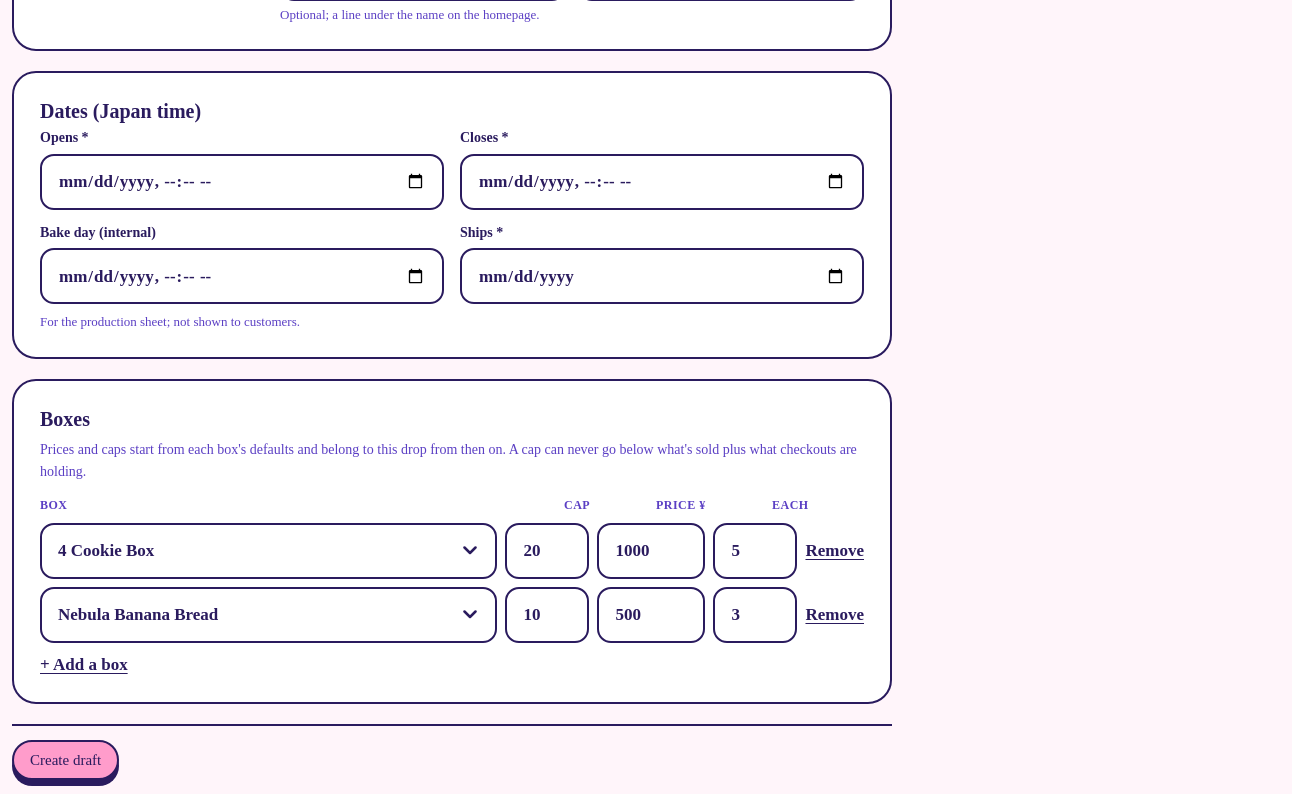
DropForm › fills a new row from the box chosen, and won't offer a box that's already in
The image size is (1292, 794).
(page scrolled)
Click the button "+ Add a box" at (84, 664), box [40,651,128,678]
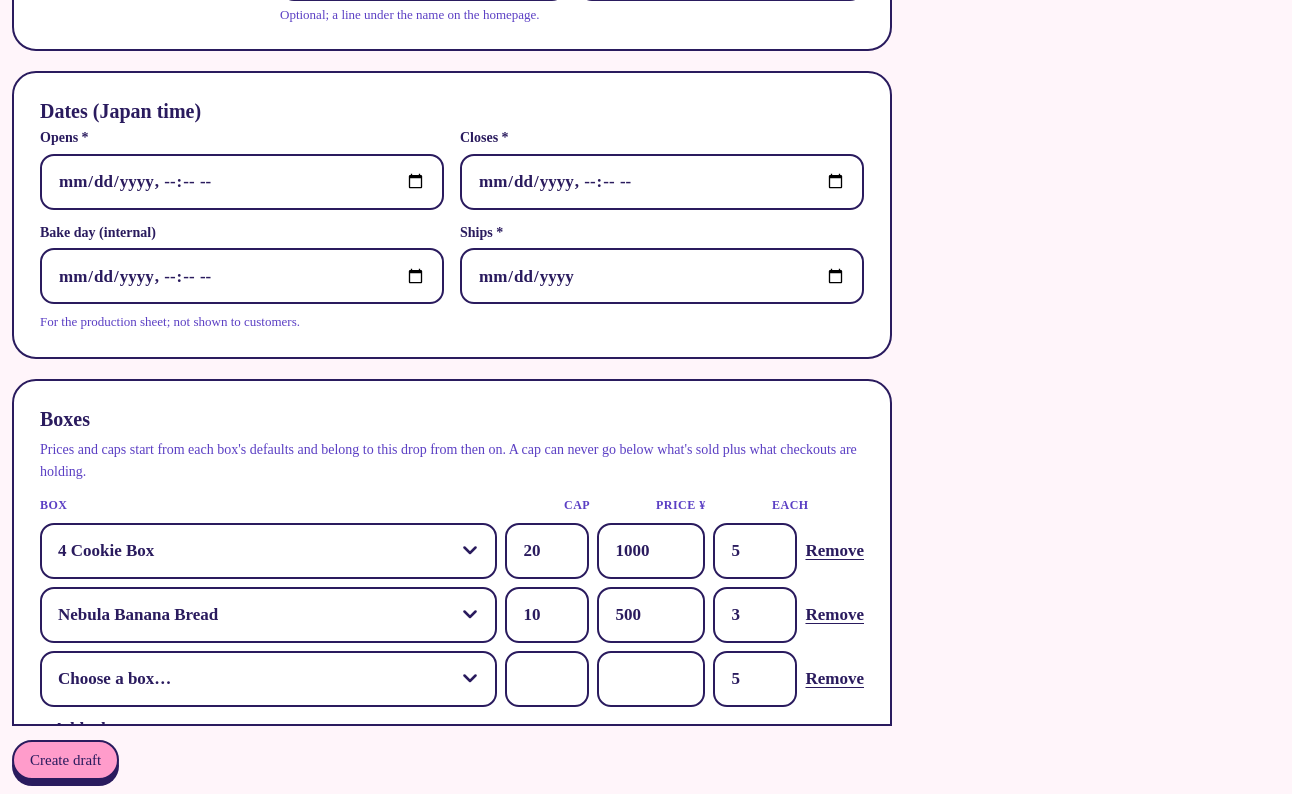
Select "Old Box (hidden)" in the dropdown named "Box 3" at (269, 679), box [40,651,498,707]
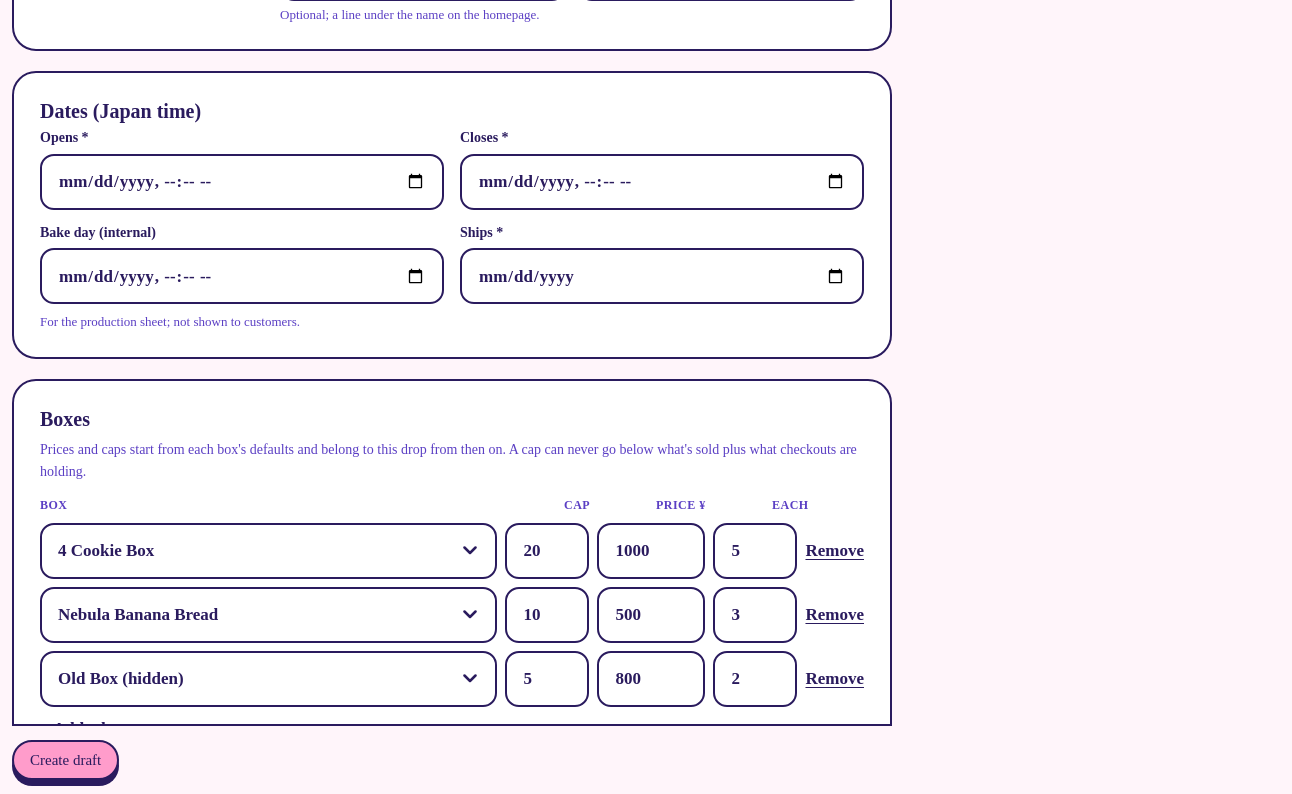
expect the field named "Cap for box 3" holds "5": met, box [506,651,590,707]
expect the field named "Price (min ¥50) for box 3" holds "800": met, box [598,651,706,707]
expect the field named "Per customer for box 3" holds "2": met, box [714,651,798,707]
